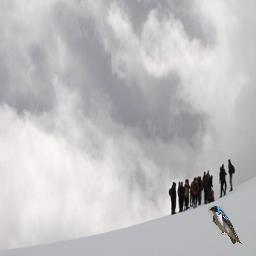Swallow: (208, 206, 243, 244)
